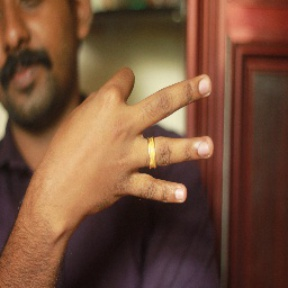K: (42, 68, 217, 218)
